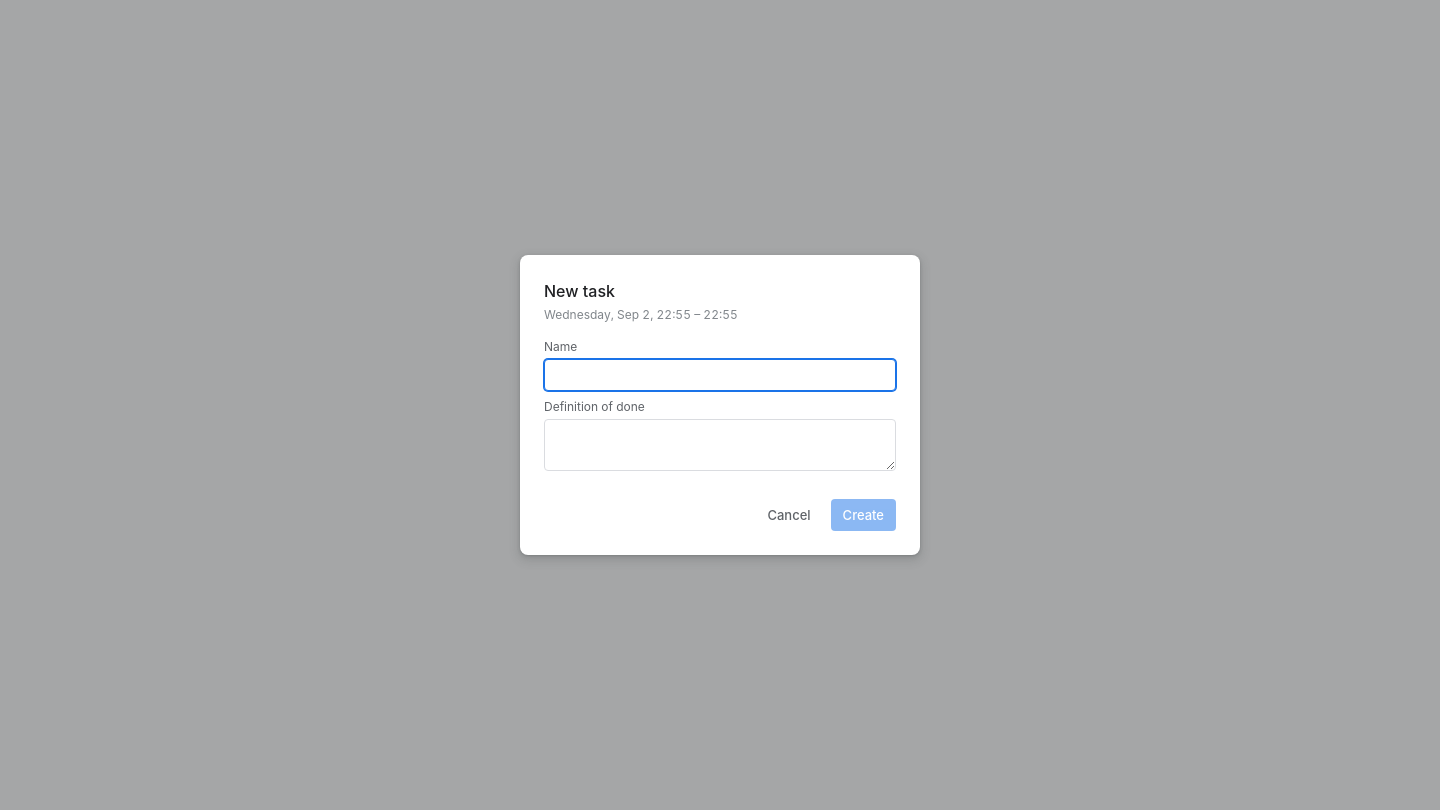
Scenario: QuickCreateTaskDialog › disables Create until both name and definition of done are filled
The image size is (1440, 810).
Expected: the button "Create" is disabled, [831,499,896,531]
Type "Water plants" into the field labelled "Name" at [720, 375], box [544,359,896,391]
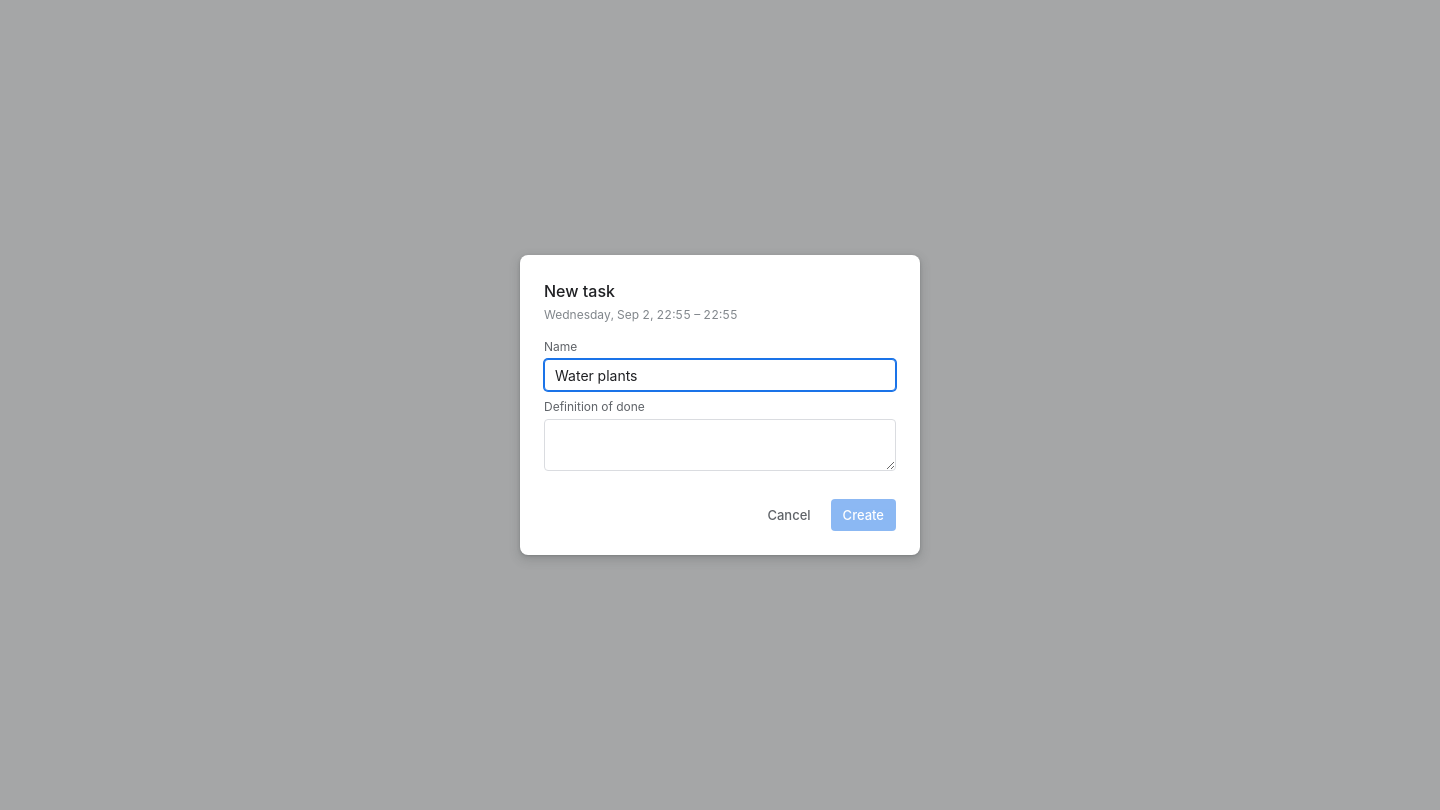
Expected: the button "Create" is disabled, [831,499,896,531]
Type "done" into the text box labelled "Definition of done" at [720, 445], box [544,419,896,471]
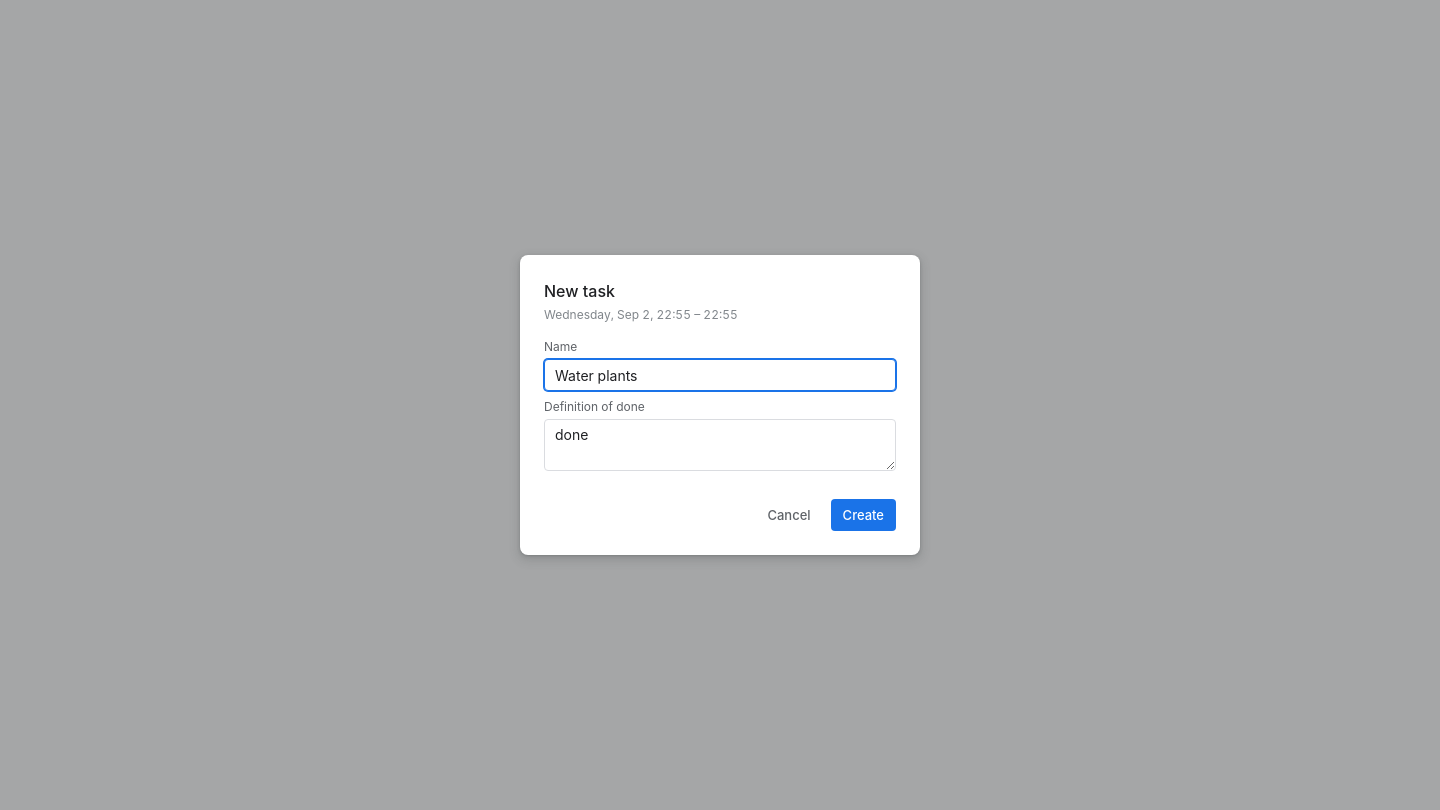
Result: the button "Create" is enabled at [831,499,896,531]
